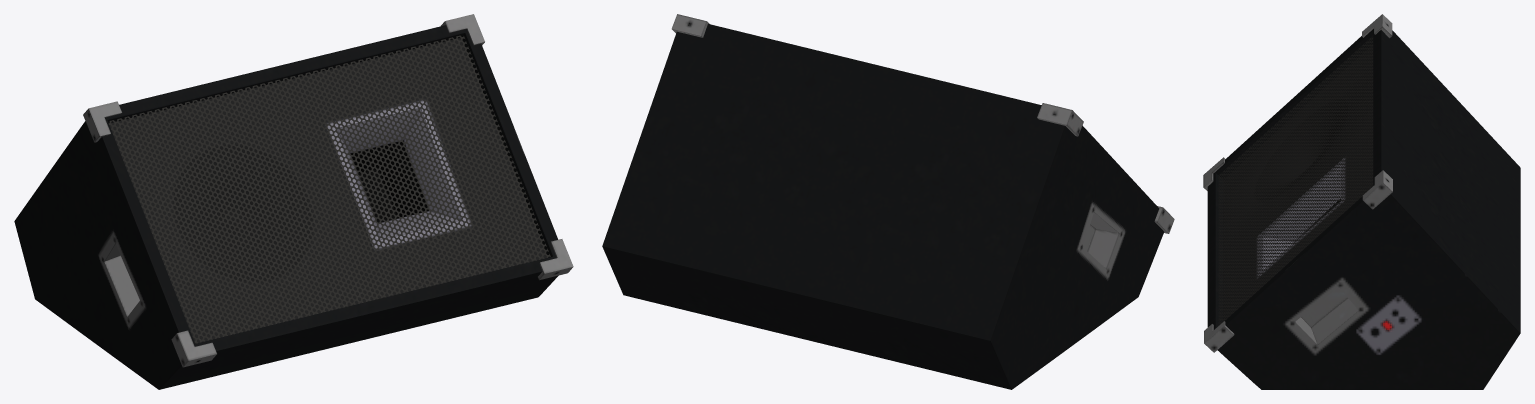
The model's file is stage-wedge-game-asset-ae2e02.glb.
The picture shows the model from 3 angles, left to right: view 1: azimuth 30°, elevation 25°; view 2: azimuth 150°, elevation 25°; view 3: azimuth 270°, elevation 25°; orthographic projection. The views are drawn at different scales.
Parts seen in each view (by area): view 1: PropMesh; view 2: PropMesh; view 3: PropMesh.
Boxes of the visible parts, box(x1,y1,x2,y2) form: PropMesh: box(14, 14, 573, 389); PropMesh: box(602, 14, 1174, 389); PropMesh: box(1203, 14, 1520, 389).
Bounding box in the file's own units: 0.7797 × 0.45 × 0.6192.
Materials: 2 (2 with a texture image).
